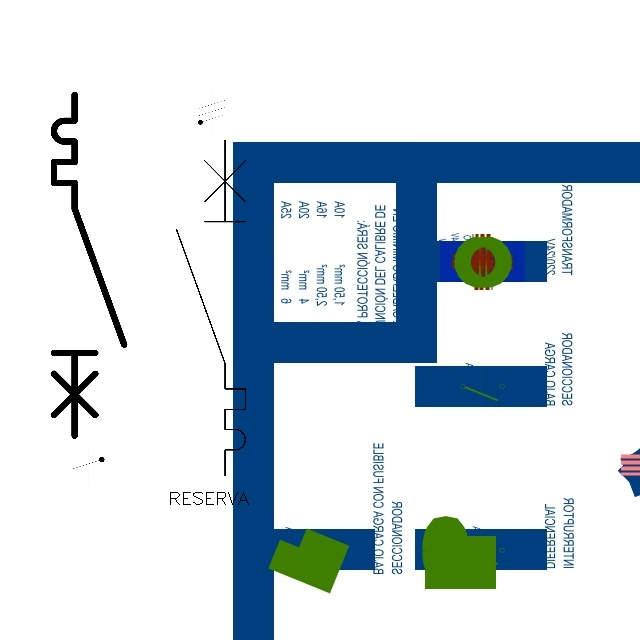interruptor_termomagnetico: (45, 86, 132, 444), (168, 131, 254, 484)
